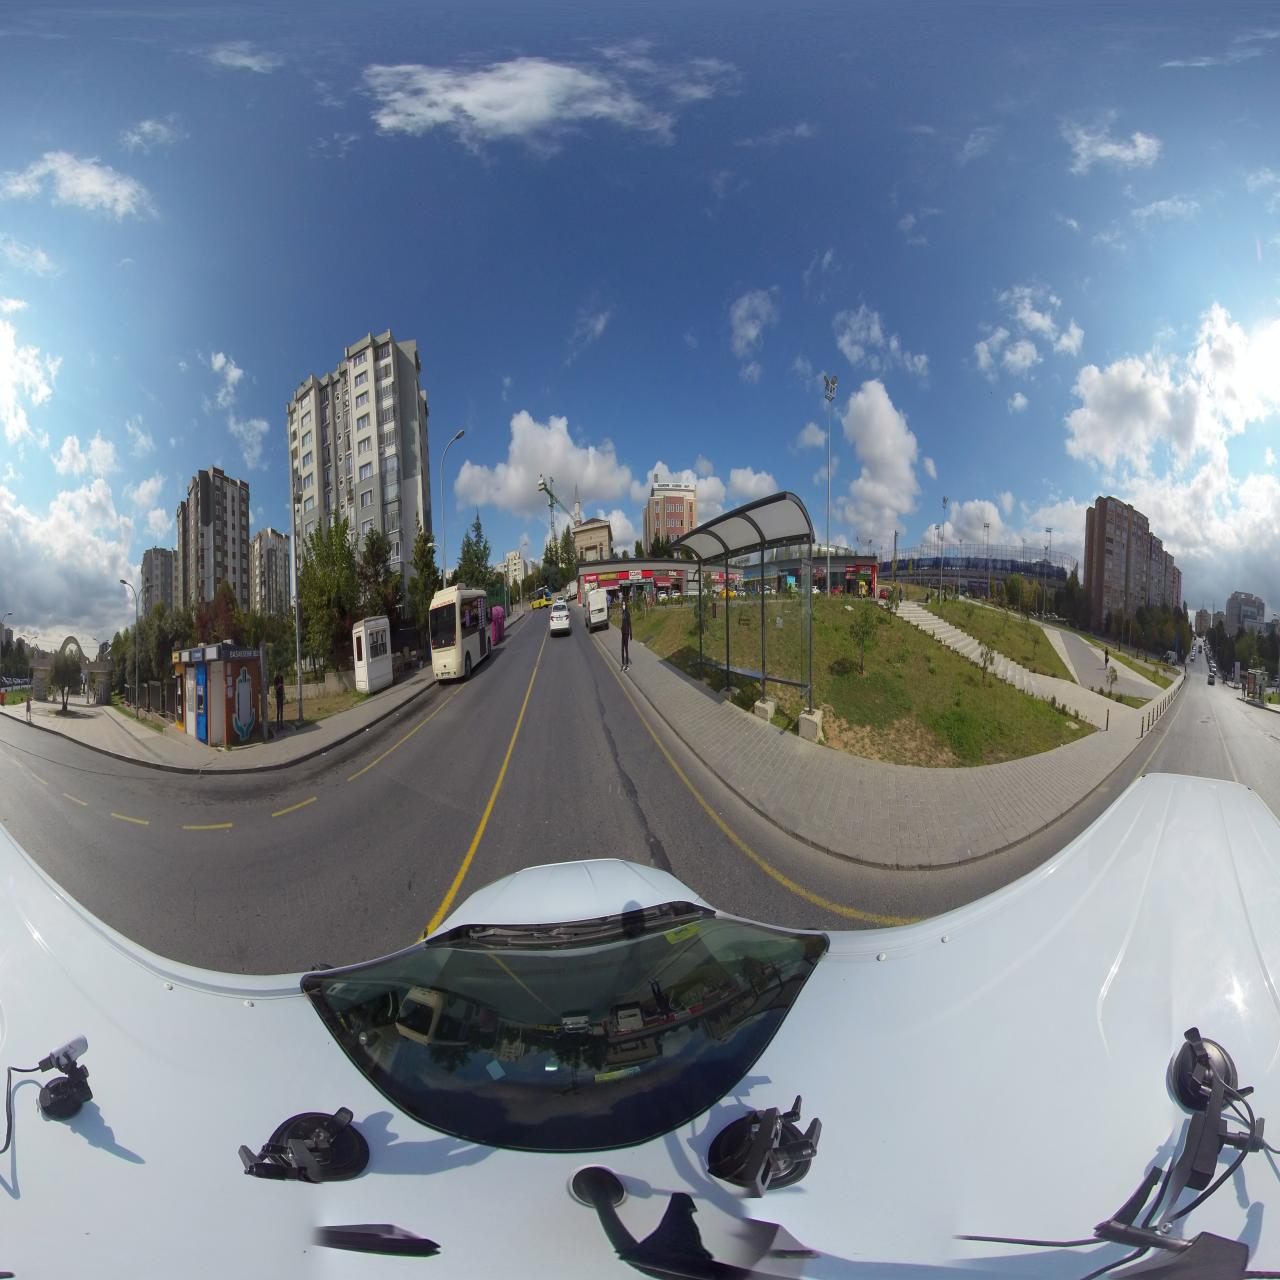SignStore: (599, 572, 617, 580), (629, 570, 641, 580), (586, 573, 598, 583), (653, 570, 668, 577), (777, 568, 791, 576), (668, 570, 682, 577), (860, 566, 871, 574), (815, 566, 826, 573), (712, 572, 720, 579), (846, 566, 856, 572), (735, 574, 743, 580), (728, 573, 735, 579)
